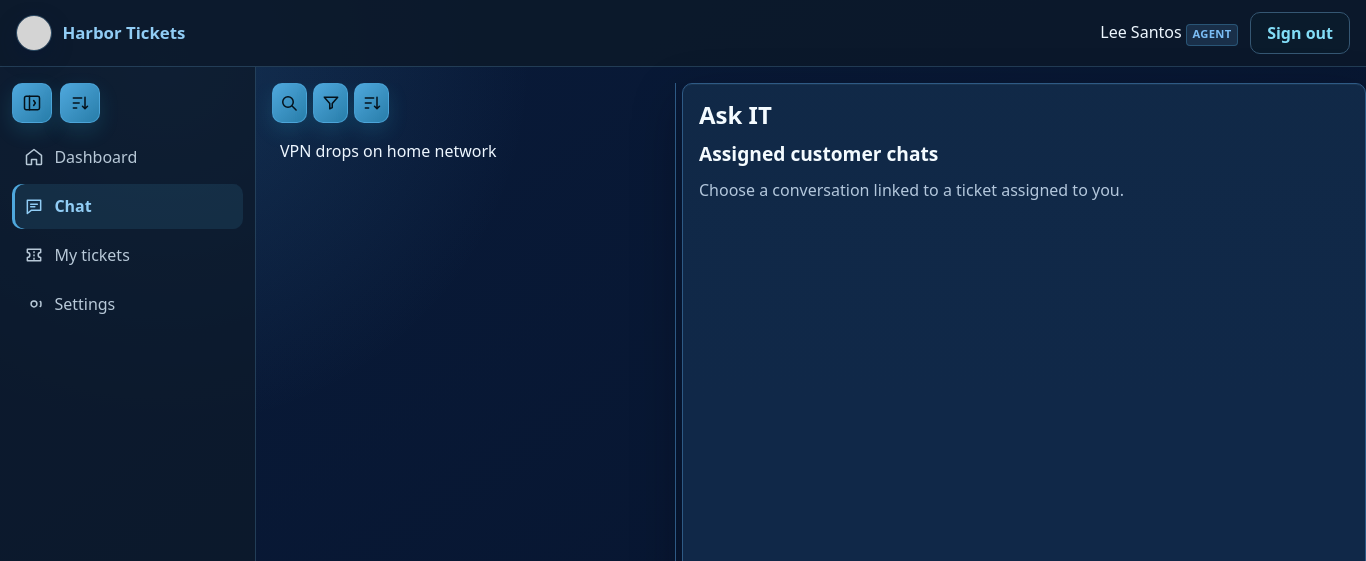
Test: employee chat (S3-02, S3-03) › lets agents resolve assigned tickets from chat before archiving or deleting
Click the link "VPN drops on home network" at (388, 151), box x1=280 y1=140 x2=497 y2=162
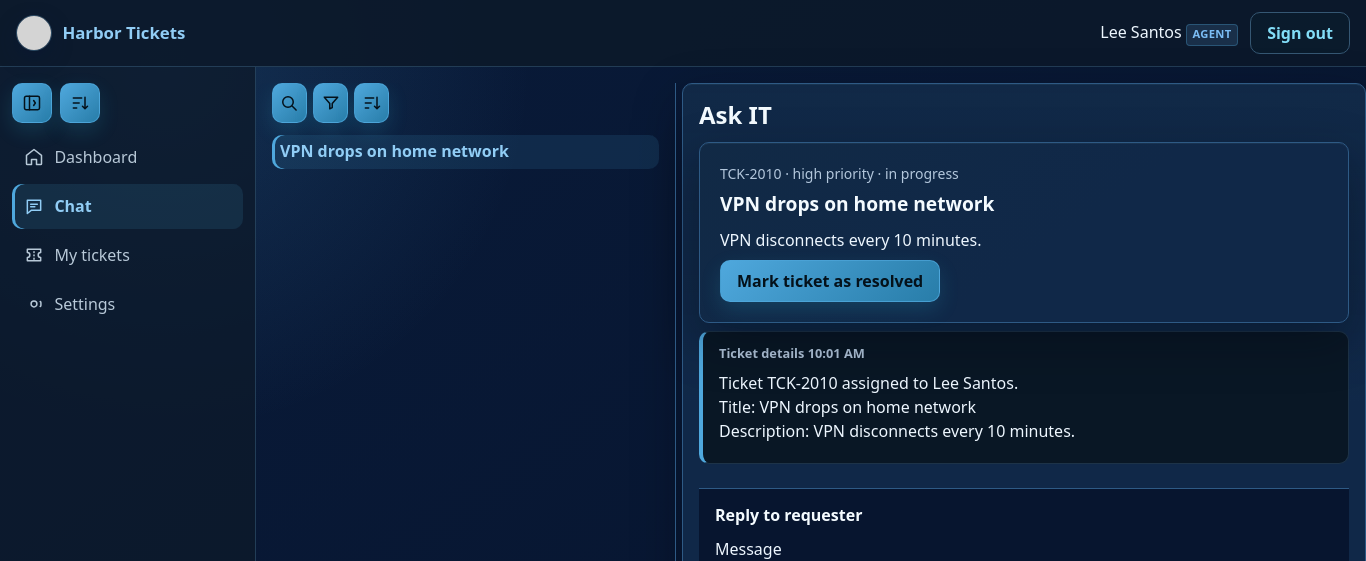
Expected: the element "Ticket details" shows "TCK-2010", x1=719 y1=372 x2=1075 y2=442
Expected: the button "Mark ticket as resolved" is shown
Click the button "Mark ticket as resolved" at (830, 281), box x1=720 y1=260 x2=940 y2=302
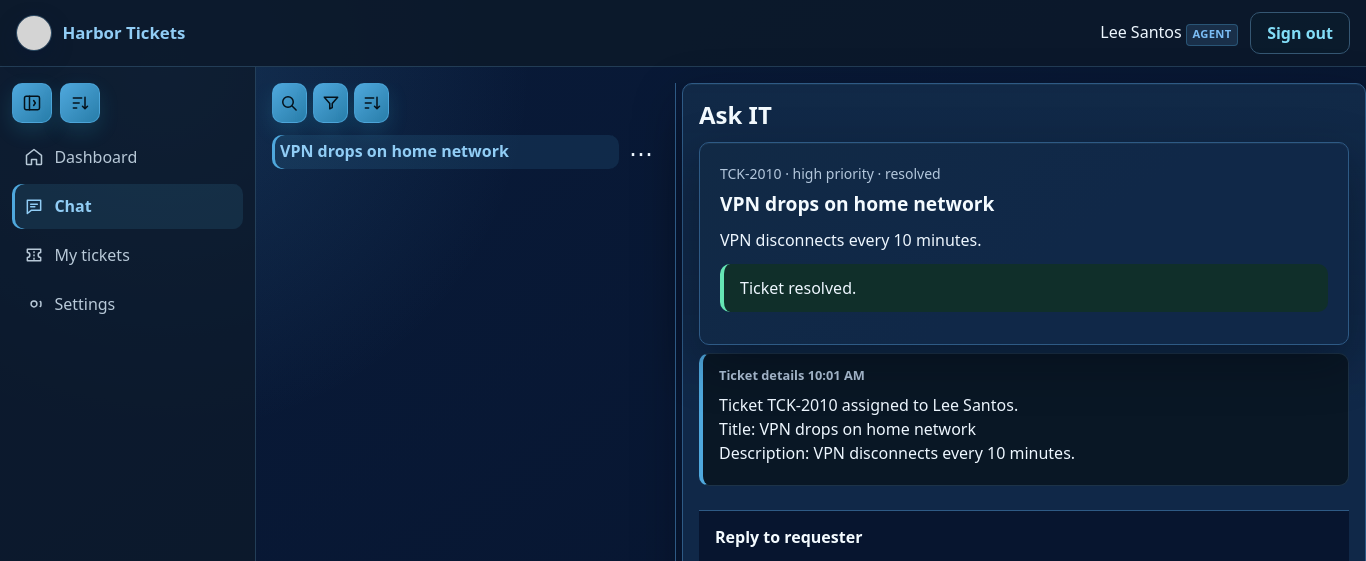
Expected: the text "Ticket resolved." is shown, x1=720 y1=264 x2=1328 y2=312
Click the button "⋯" at (641, 153), box x1=623 y1=135 x2=659 y2=171
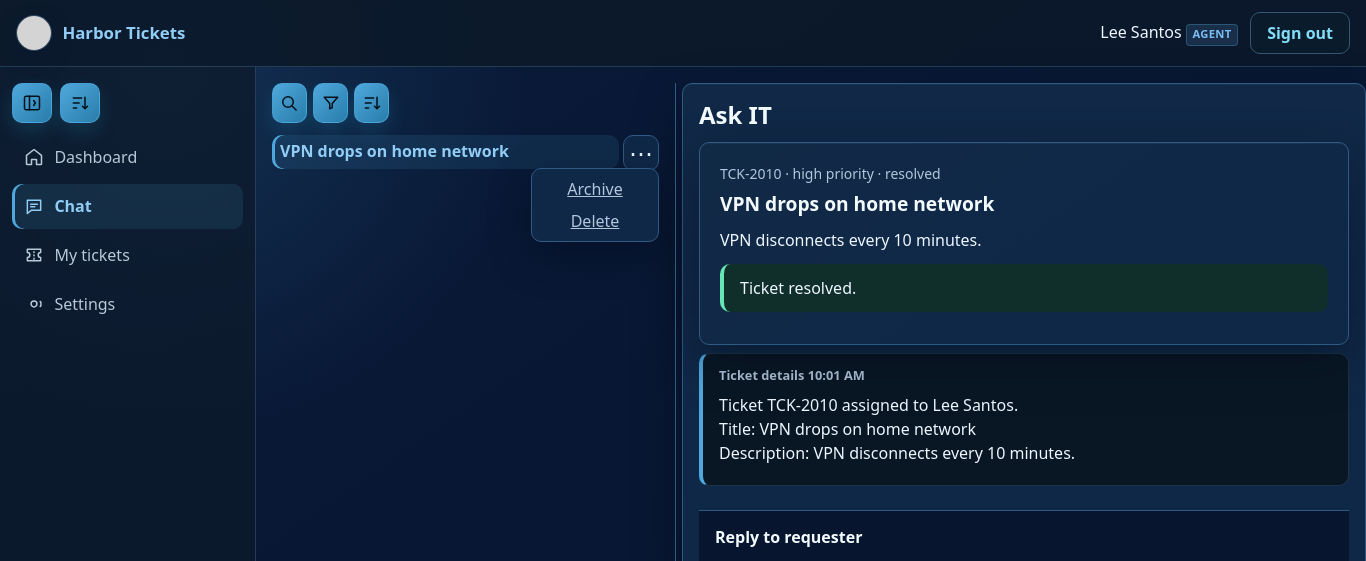
Expected: the button "Archive" is shown, x1=544 y1=177 x2=646 y2=201
Expected: the button "Delete" is shown, x1=544 y1=209 x2=646 y2=233
